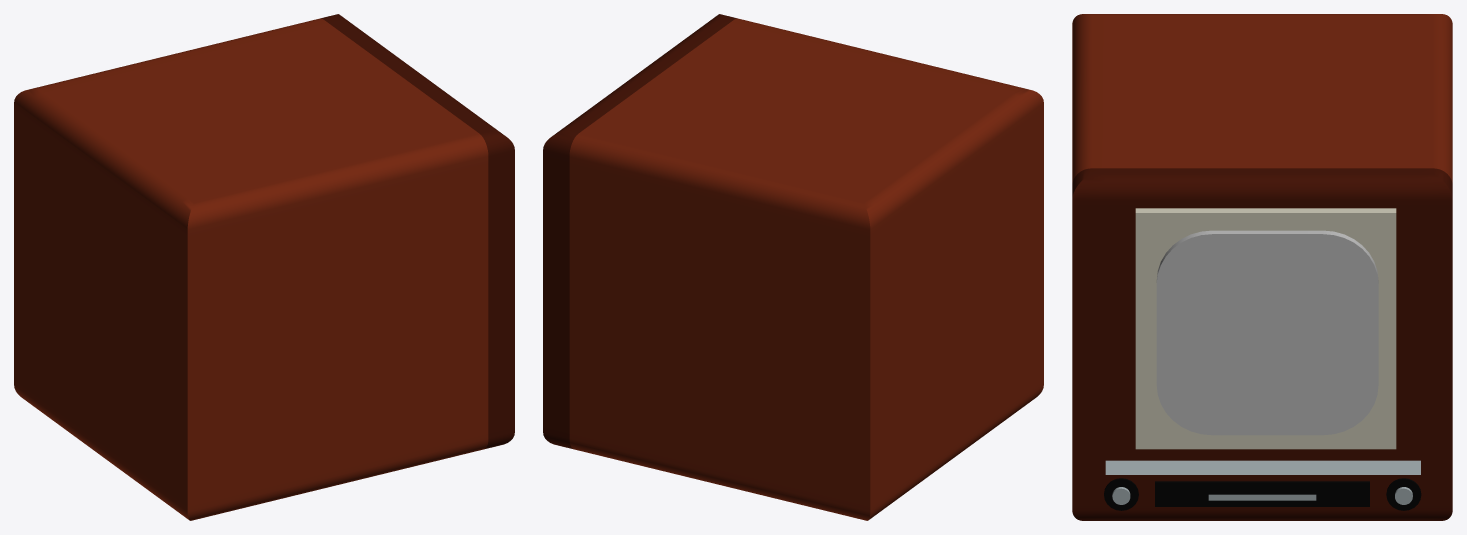
Rendered from Television.glb.
The picture shows the model from 3 angles, left to right: view 1: azimuth 30°, elevation 25°; view 2: azimuth 150°, elevation 25°; view 3: azimuth 270°, elevation 25°; orthographic projection. The views are drawn at different scales.
Parts seen in each view (by area): view 1: television_exporty; view 2: television_exporty; view 3: television_exporty.
Boxes of the visible parts, x1,y1,x2,y2 form: television_exporty: [14, 14, 514, 520]; television_exporty: [543, 14, 1043, 520]; television_exporty: [1072, 14, 1452, 520].
Bounding box in the file's own units: 0.7903 × 0.7144 × 0.7144.
Materials: 6 (1 with a texture image).
